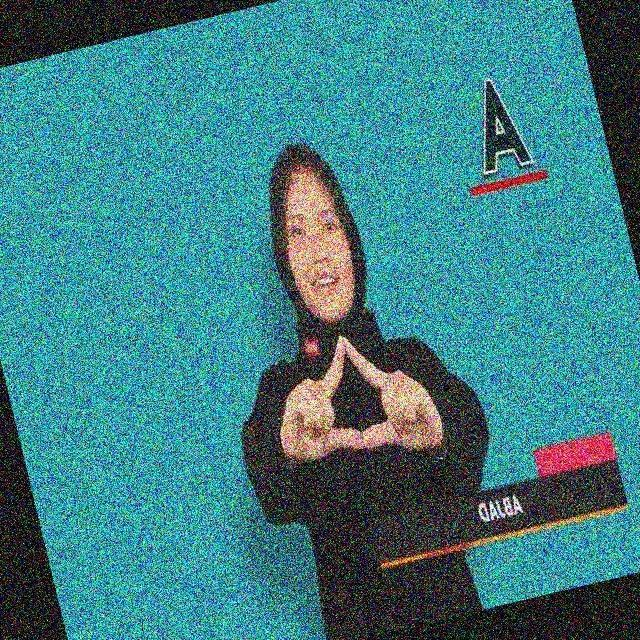A: (273, 326, 452, 464)
